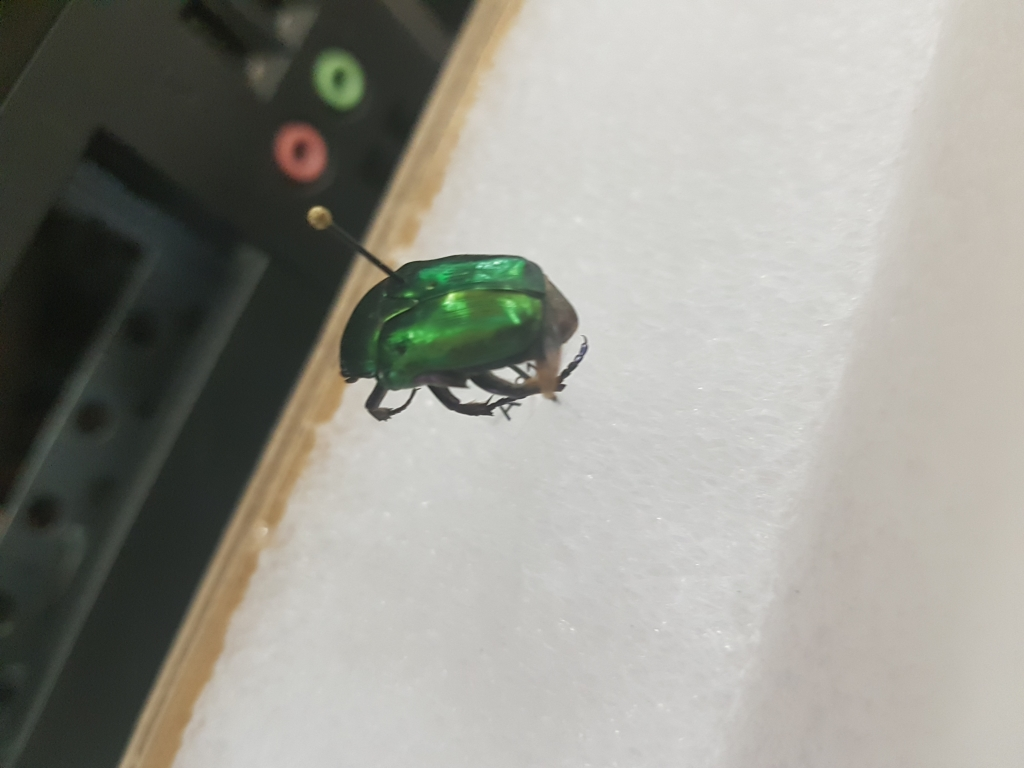Protaetia_cuprea_ignicollis: (339, 251, 600, 421)
